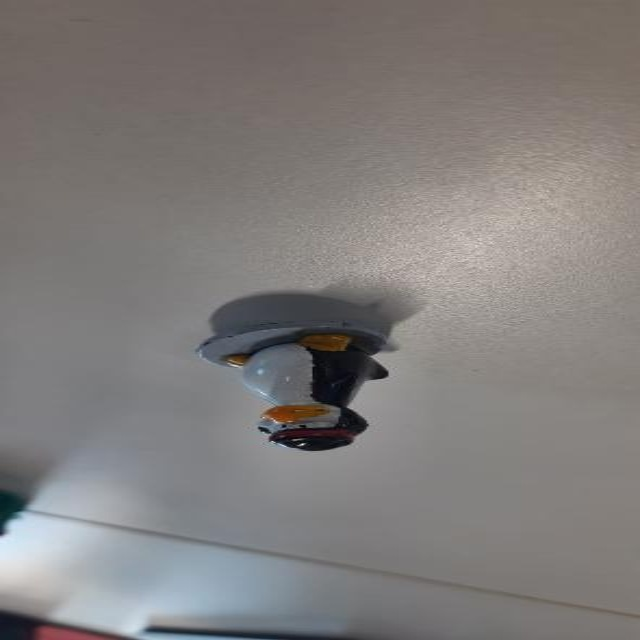Penguin: (196, 307, 411, 461)
